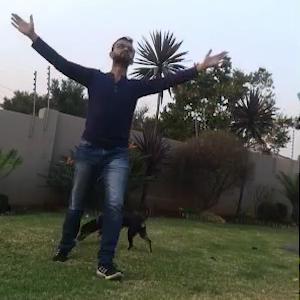takeoff: (13, 40, 202, 253)
